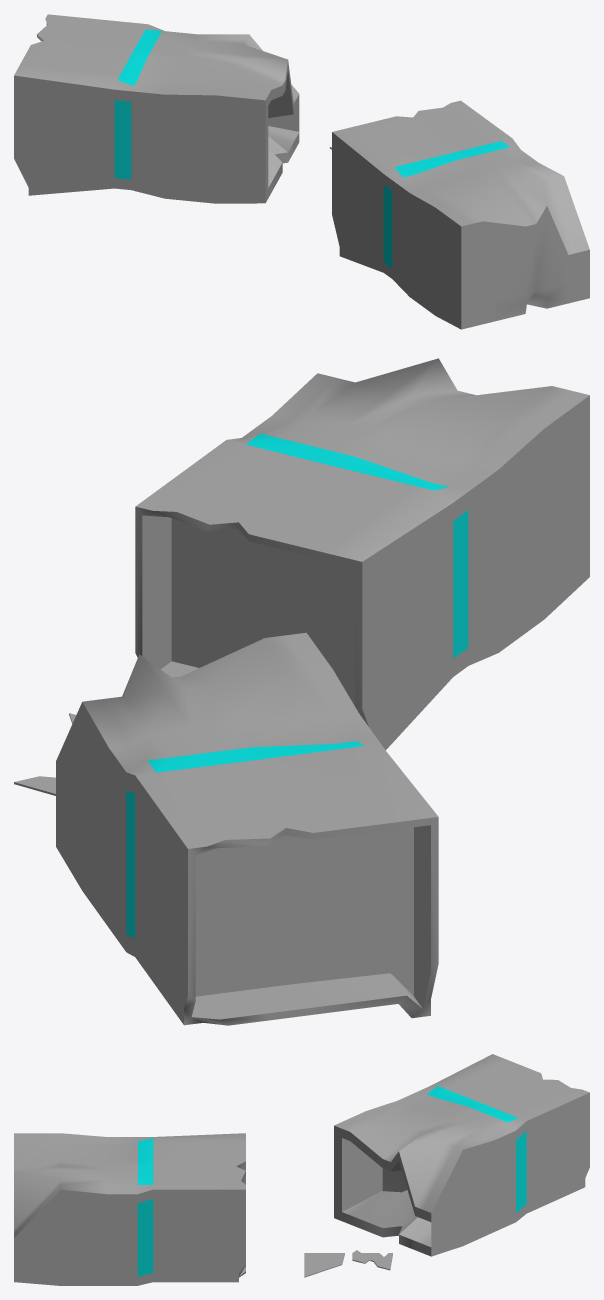
The model's file is Destroyed Building.fbx.
3 views of the same model, one above another, from view 1: azimuth 30°, elevation 25°; view 2: azimuth 150°, elevation 25°; view 3: azimuth 270°, elevation 25° (orthographic). The views are drawn at different scales.
Parts seen in each view (by area): view 1: BrokenBuilding; view 2: BrokenBuilding; view 3: BrokenBuilding.
Part boxes in pixels (bbox=[...]): BrokenBuilding: bbox=[14, 14, 589, 329]; BrokenBuilding: bbox=[14, 358, 589, 1025]; BrokenBuilding: bbox=[14, 1054, 589, 1285].
Size of the model in its own units: 3.2 by 1.16 by 5.65.
